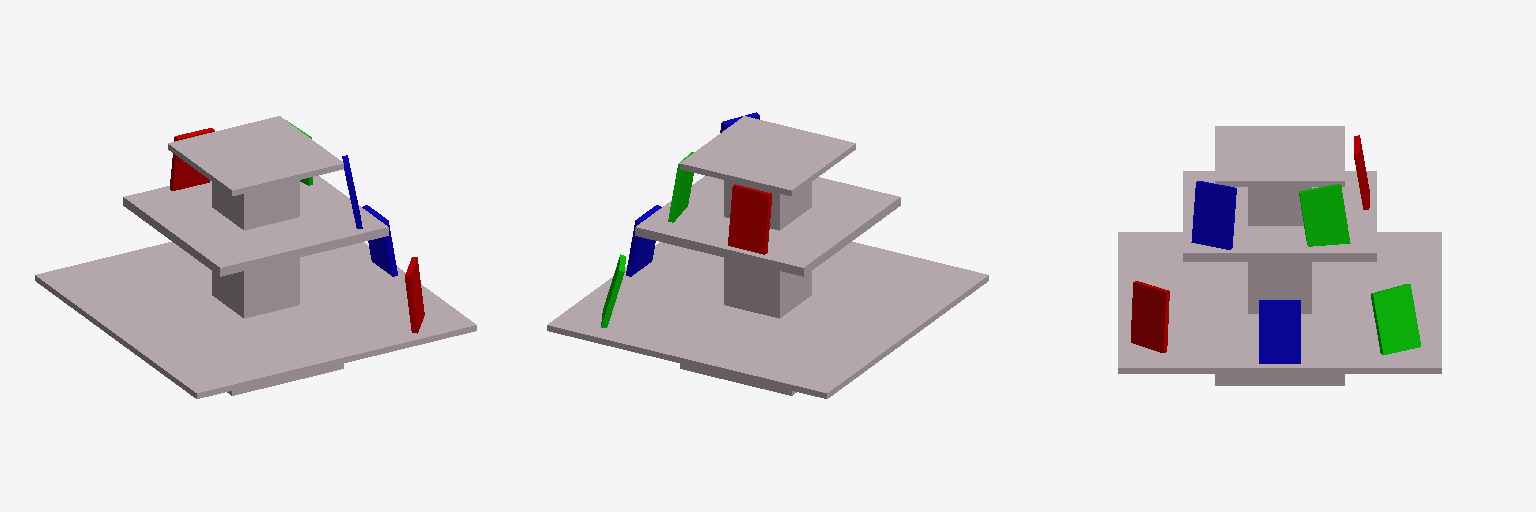
File: showtafel.obj
3 renders of one model, left to right at view 1: azimuth 30°, elevation 25°; view 2: azimuth 150°, elevation 25°; view 3: azimuth 270°, elevation 25°, orthographic.
Visible parts, largest first — view 1: Cube, Cube.006, Cube.002, Cube.001; view 2: Cube, Cube.006, Cube.001, Cube.005, Cube.003; view 3: Cube, Cube.001, Cube.003, Cube.004, Cube.005, Cube.002, Cube.006.
Boxes of the visible parts, x1,y1,x2,y2 form: Cube: [35, 116, 476, 398]; Cube.006: [170, 128, 214, 190]; Cube.002: [405, 257, 424, 333]; Cube.001: [362, 205, 397, 276]; Cube: [547, 116, 988, 398]; Cube.006: [728, 184, 771, 254]; Cube.001: [626, 205, 661, 276]; Cube.005: [668, 152, 693, 222]; Cube.003: [601, 254, 625, 327]; Cube: [1118, 126, 1441, 385]; Cube.001: [1259, 300, 1300, 363]; Cube.003: [1371, 284, 1420, 354]; Cube.004: [1191, 181, 1236, 249]; Cube.005: [1299, 184, 1350, 246]; Cube.002: [1131, 281, 1169, 352]; Cube.006: [1354, 135, 1369, 209].
Size of the model in its own units: 10 by 7 by 10.